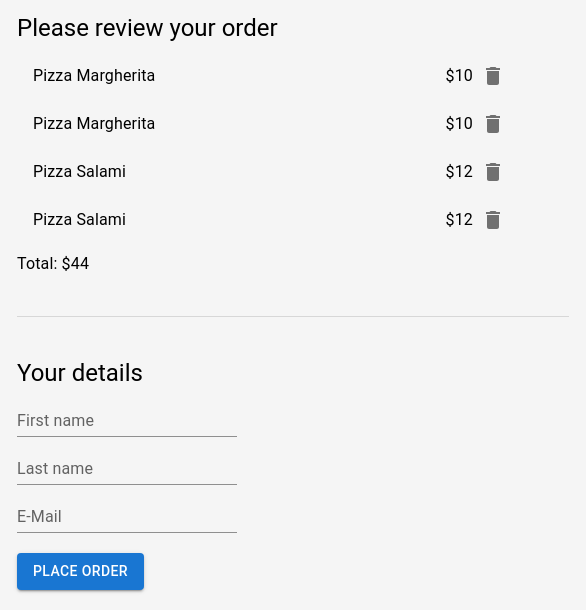
Test: Checkout › should remove duplicate order items from the list
Click the 1st button with test id "CHECKOUT_REMOVE_ORDER_ITEM": (493, 76) [473, 56, 513, 96]
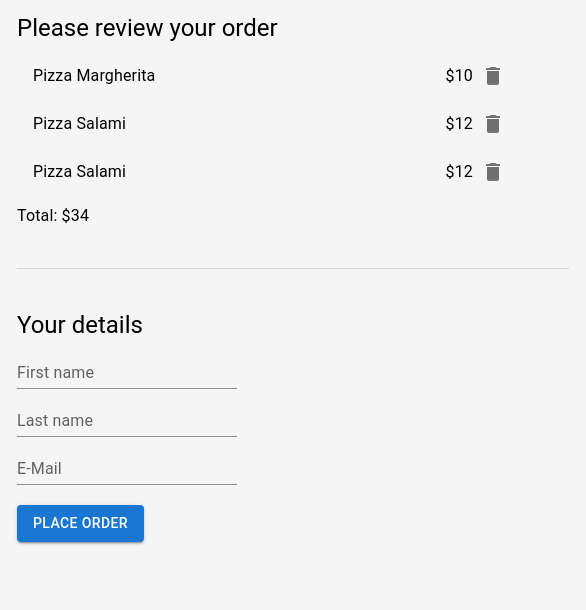
Expected: the number of list items with test id "CHECKOUT_ORDER_ITEM" is 3, [17, 52, 517, 100]; [17, 100, 517, 148]; [17, 148, 517, 196]
